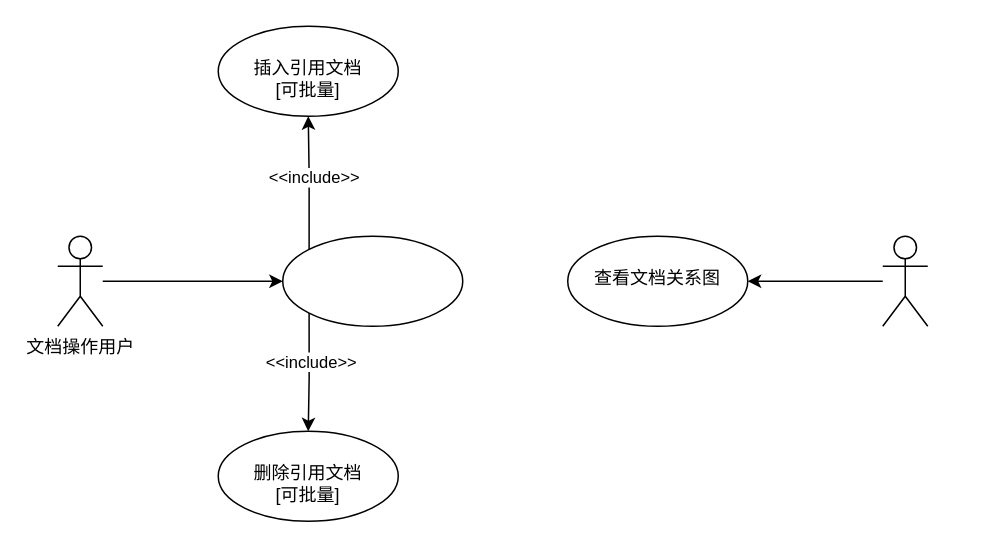
The diagram is 1002 pixels wide and 548 high, and some of its shapes have lost their labels. The shapes that lost their labels are listed below. From the top down, each one's box as (x1, y1, x2, y2) in pixels, then its label:
(281, 235, 463, 326): 更新文档链接
(881, 235, 928, 326): 查看文档关系用户
